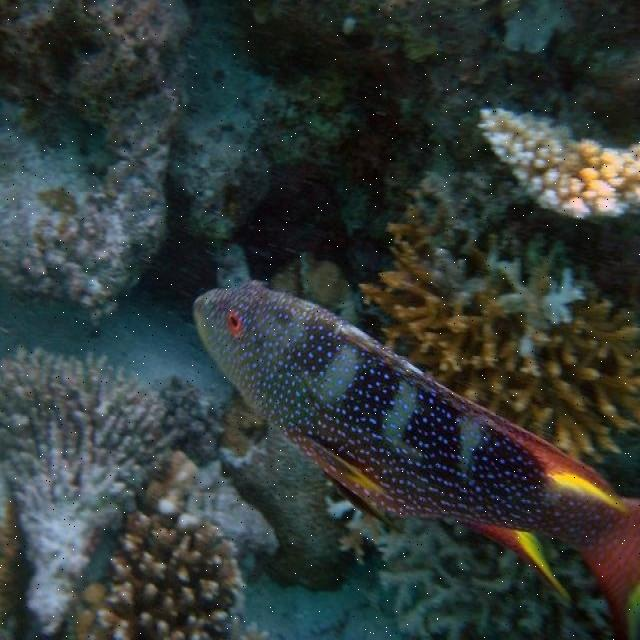fish: (192, 278, 639, 637)
reefs: (0, 348, 280, 639), (323, 495, 620, 639)
